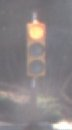Red: (23, 19, 48, 89)
